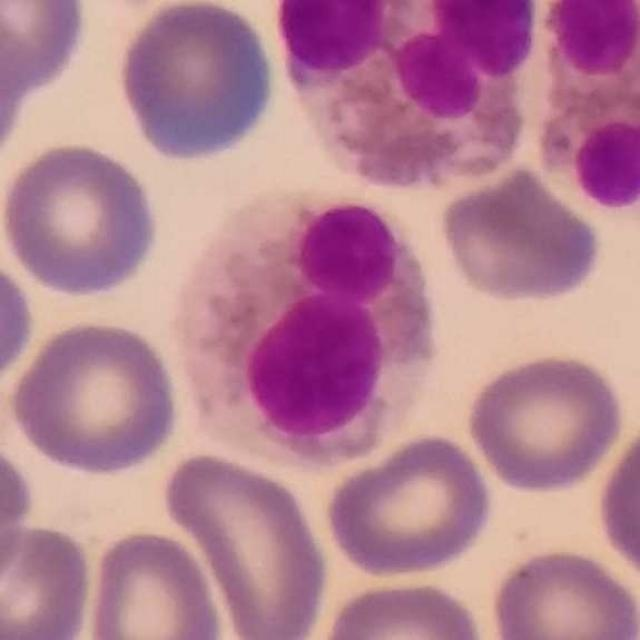Eosinophil: (182, 189, 439, 474), (274, 0, 537, 190), (525, 0, 640, 218)
RBC: (157, 447, 334, 639), (7, 315, 184, 477), (111, 0, 282, 167), (320, 429, 498, 581), (0, 138, 163, 299), (433, 159, 605, 308), (464, 348, 628, 496), (82, 525, 228, 640), (486, 543, 640, 640), (0, 520, 97, 640), (315, 575, 492, 640), (0, 0, 92, 95), (593, 414, 640, 590), (0, 437, 36, 600), (0, 250, 38, 400), (0, 4, 33, 174)
